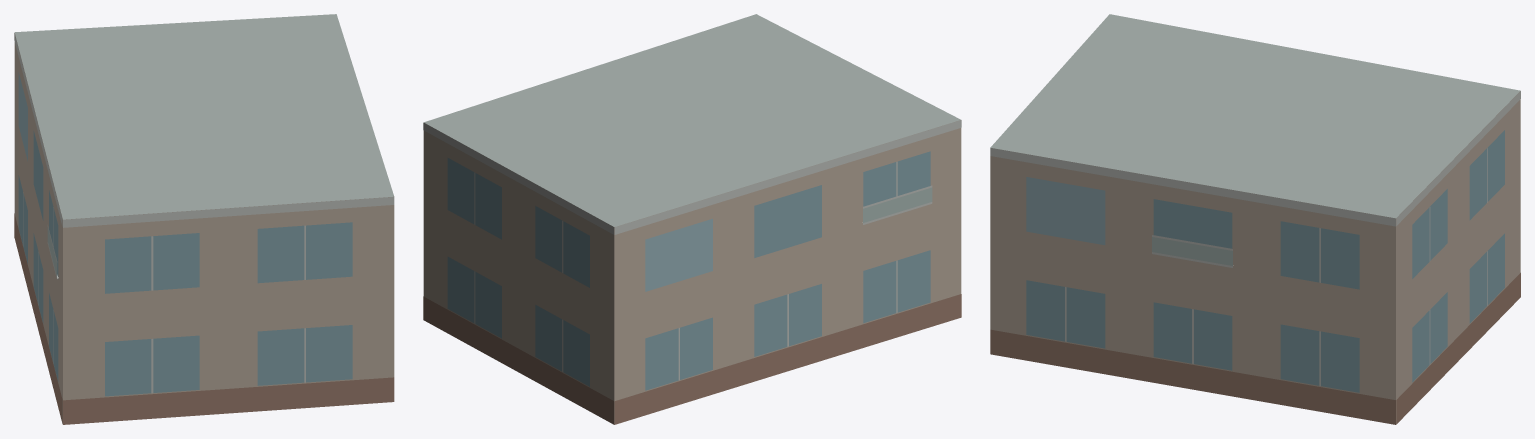
The model's file is survey-upis-32777649.glb.
3 views of the same model, side by side, from view 1: azimuth 30°, elevation 25°; view 2: azimuth 150°, elevation 25°; view 3: azimuth 270°, elevation 25° (orthographic). The views are drawn at different scales.
Parts seen in each view (by area): view 1: survey-upis-32777649.tmp; view 2: survey-upis-32777649.tmp; view 3: survey-upis-32777649.tmp.
Boxes of the visible parts, box(x1,y1,x2,y2) form: survey-upis-32777649.tmp: box(14, 14, 394, 424); survey-upis-32777649.tmp: box(423, 14, 961, 424); survey-upis-32777649.tmp: box(990, 14, 1520, 424).
Bounding box in the file's own units: 12.95 × 6.1 × 14.21.
